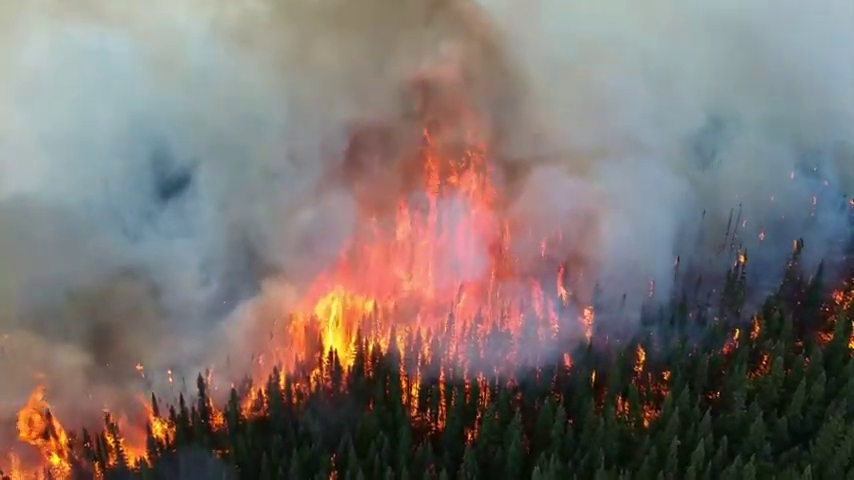forest_fire: (229, 131, 596, 417), (0, 387, 178, 479), (191, 373, 226, 431), (633, 347, 645, 374), (833, 294, 842, 305)
